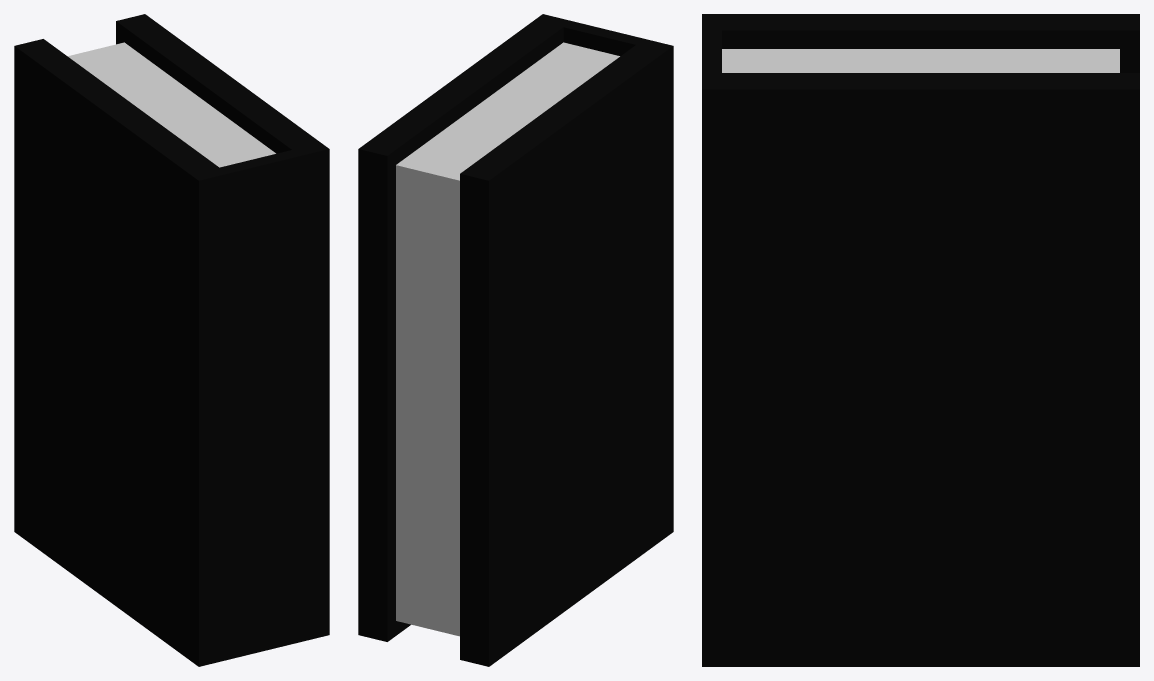
File: BlackBook.fbx
The picture shows the model from 3 angles, left to right: view 1: azimuth 30°, elevation 25°; view 2: azimuth 150°, elevation 25°; view 3: azimuth 270°, elevation 25°; orthographic projection. The views are drawn at different scales.
Parts seen in each view (by area): view 1: BlackBook; view 2: BlackBook; view 3: BlackBook.
Boxes of the visible parts, bbox=[...] form: BlackBook: bbox=[14, 14, 329, 666]; BlackBook: bbox=[358, 14, 673, 666]; BlackBook: bbox=[702, 14, 1139, 666].
Size of the model in its own units: 9 by 32 by 22.
1 material, 1 textured.
